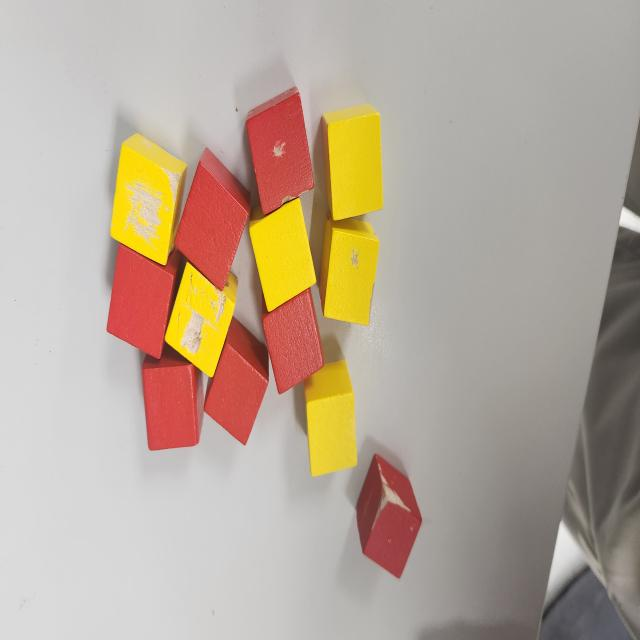broken: (110, 133, 188, 267), (244, 85, 315, 219), (354, 454, 423, 581), (162, 263, 236, 378), (322, 220, 379, 326)
red: (174, 148, 252, 292), (105, 243, 184, 362), (204, 316, 269, 447), (261, 287, 325, 395), (140, 342, 202, 451)
yellow: (248, 198, 318, 314), (322, 104, 384, 222), (304, 360, 358, 477)
